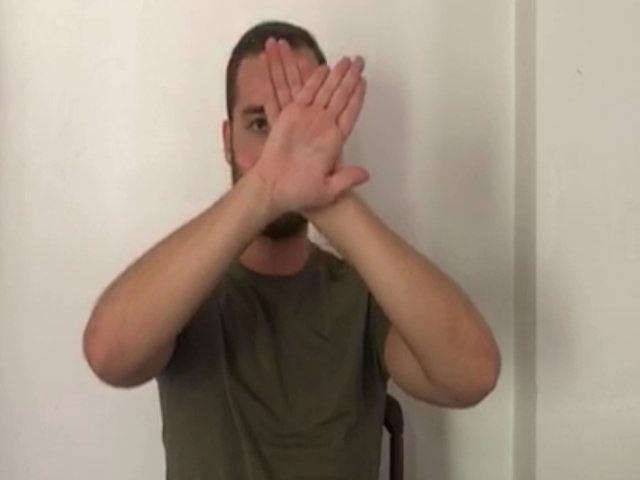Stemneto: (239, 35, 376, 220)
